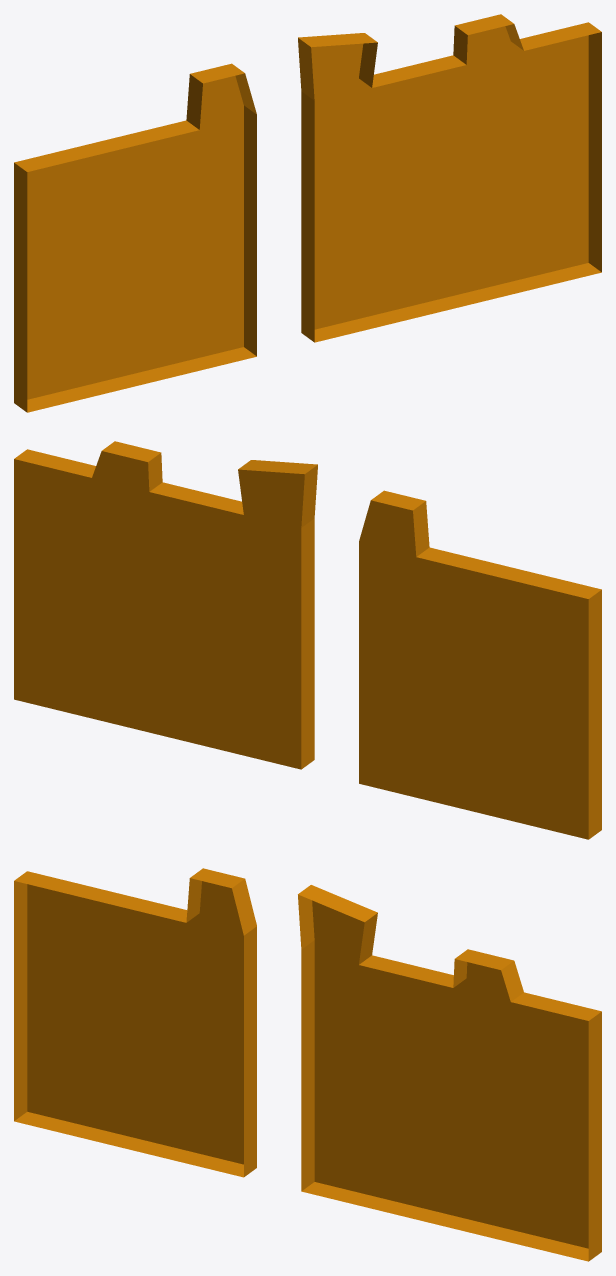
File: candycane_valley_low_res_2.fbx
The picture shows the model from 3 angles, top to bottom: view 1: azimuth 30°, elevation 25°; view 2: azimuth 150°, elevation 25°; view 3: azimuth 330°, elevation 25°; orthographic projection.
Visible parts, largest first — view 1: candycane_Valley_terrain; view 2: candycane_Valley_terrain; view 3: candycane_Valley_terrain.
Part boxes in pixels (x1=…): candycane_Valley_terrain: x1=14, y1=14, x2=601, y2=412; candycane_Valley_terrain: x1=14, y1=441, x2=601, y2=839; candycane_Valley_terrain: x1=14, y1=868, x2=601, y2=1261.
Bounding box in the file's own units: 25 × 12.32 × 1.
